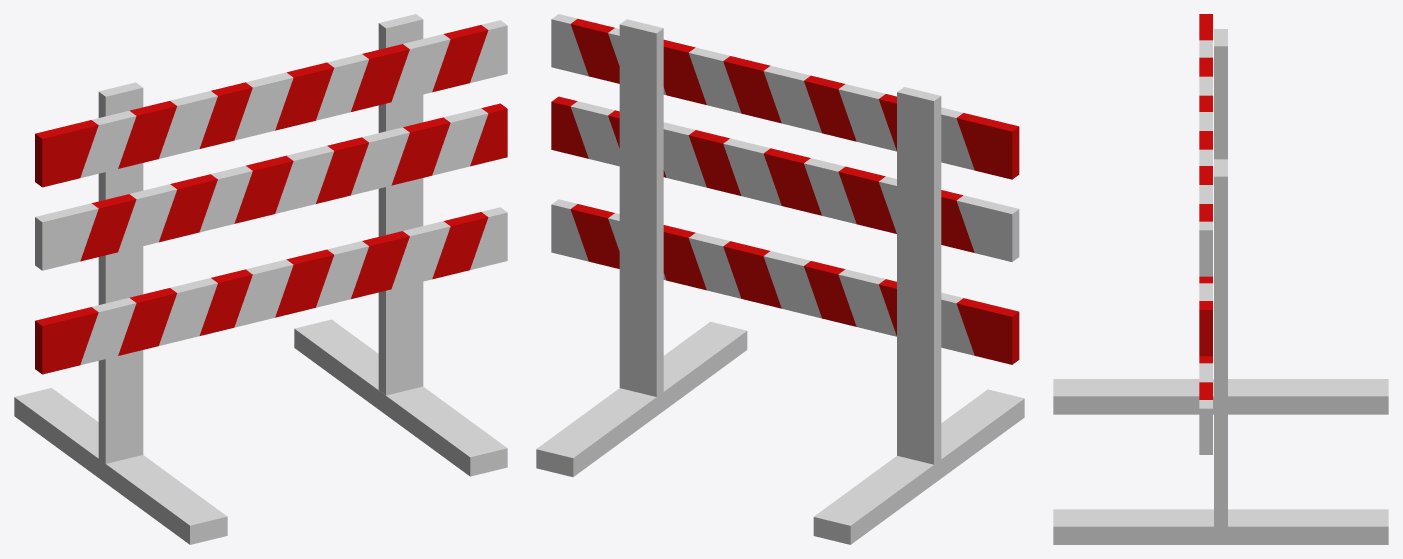
The model's file is Obstacles 1.fbx.
The picture shows the model from 3 angles, left to right: view 1: azimuth 30°, elevation 25°; view 2: azimuth 150°, elevation 25°; view 3: azimuth 270°, elevation 25°; orthographic projection. The views are drawn at different scales.
Visible parts, largest first — view 1: Obstacles_1; view 2: Obstacles_1; view 3: Obstacles_1.
Part boxes in pixels (x1,y1,x2,y2): Obstacles_1: [14, 14, 507, 544]; Obstacles_1: [536, 14, 1024, 544]; Obstacles_1: [1053, 14, 1388, 544].
Bounding box in the file's own units: 56.59 × 44.91 × 37.05.
Materials: 1 (1 with a texture image).
